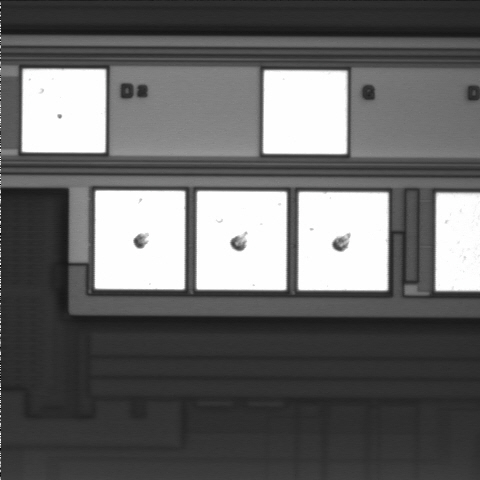pad: (197, 191, 287, 290), (95, 191, 185, 289), (298, 192, 388, 290), (22, 69, 106, 153), (263, 70, 347, 154)
